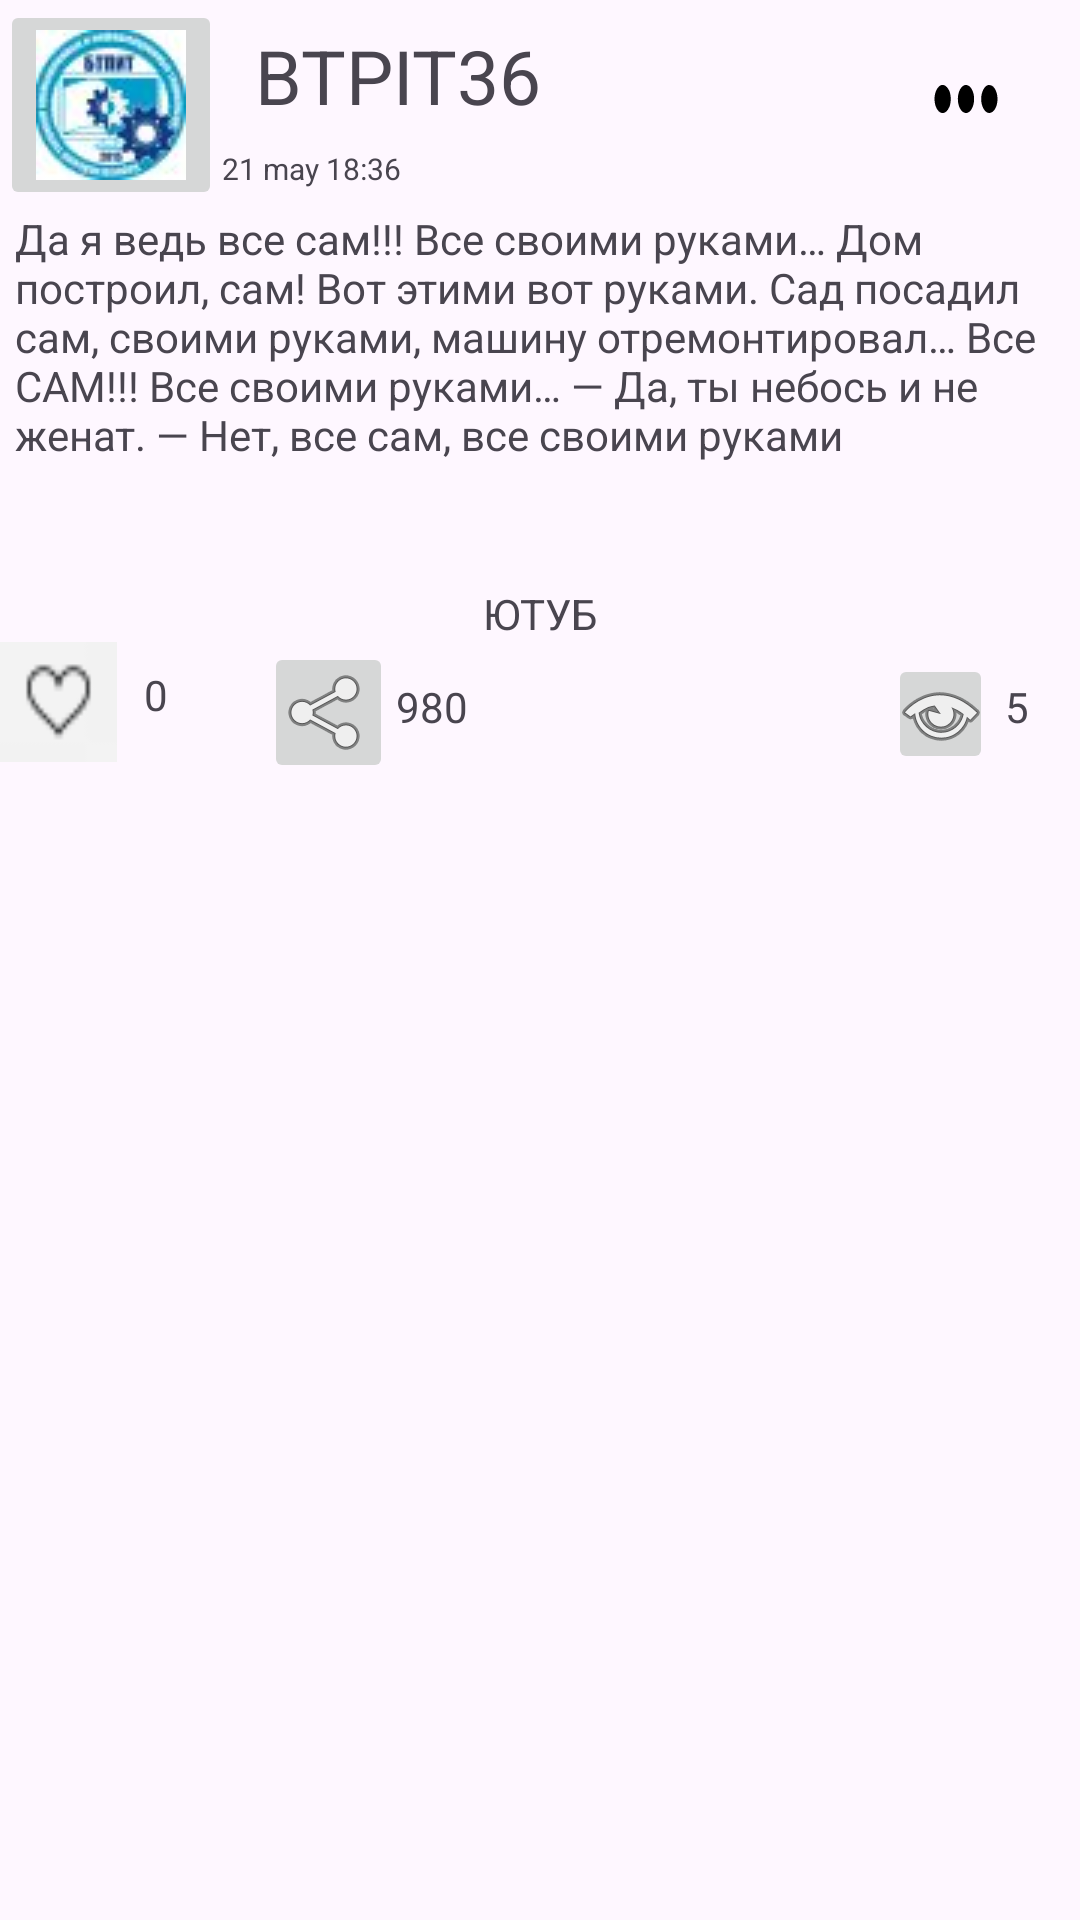

Screen size 1080 × 1920. Icon name, then its center in pixels as (x,y):
more menu: (966,99)
share: (328,712)
view: (940,714)
